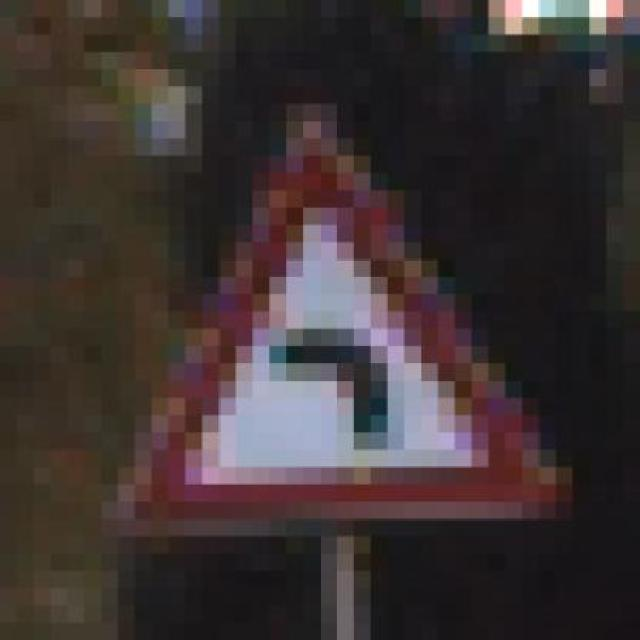Dangerous Left Curve Ahead: (90, 104, 596, 536)
